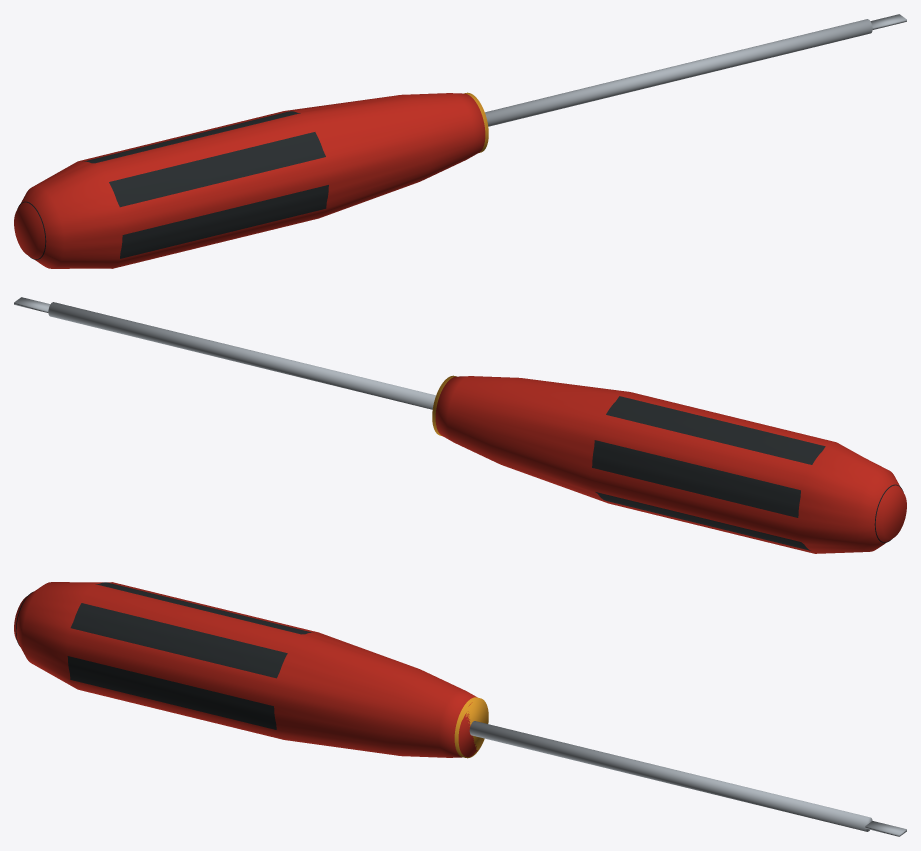
3 renders of one model, top to bottom at view 1: azimuth 30°, elevation 25°; view 2: azimuth 150°, elevation 25°; view 3: azimuth 330°, elevation 25°, orthographic.
Visible parts, largest first — view 1: 23 mm contoured polymer handle, Shaft; view 2: 23 mm contoured polymer handle, Shaft; view 3: 23 mm contoured polymer handle, Shaft, Collar.
Part boxes in pixels (x1,y1,x2,y2): 23 mm contoured polymer handle: [14, 93, 485, 268]; Shaft: [485, 14, 906, 126]; 23 mm contoured polymer handle: [435, 376, 906, 553]; Shaft: [14, 297, 435, 409]; 23 mm contoured polymer handle: [14, 582, 477, 757]; Shaft: [469, 721, 906, 836]; Collar: [454, 697, 488, 758].
Size of the model in its own units: 0.204 by 0.023 by 0.0228.
